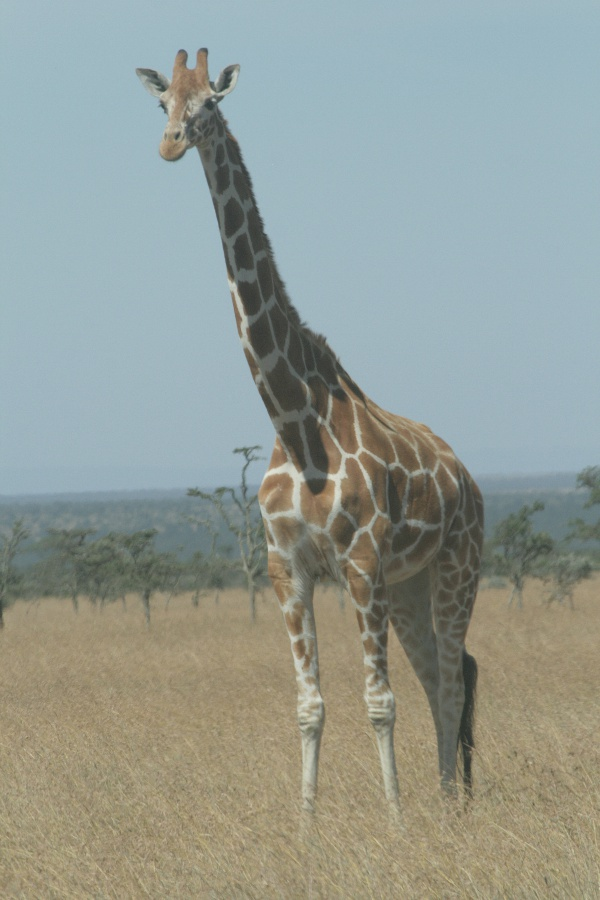giraffe: (112, 34, 540, 840)
